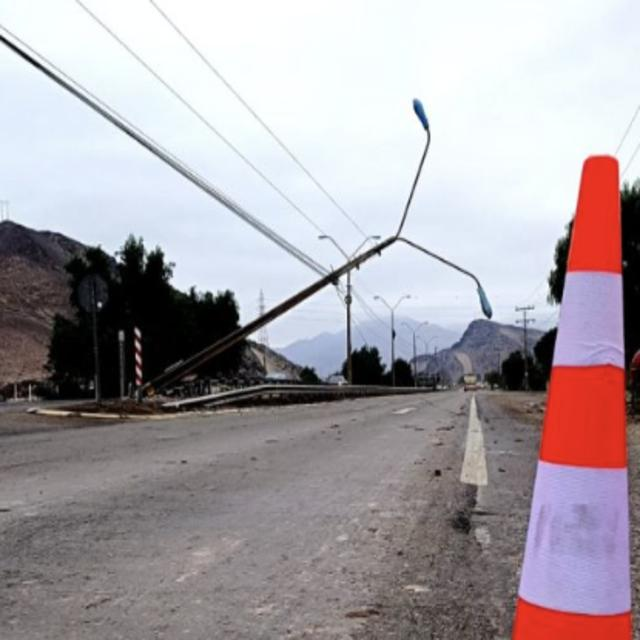Inclined Pole: (129, 91, 501, 397)
